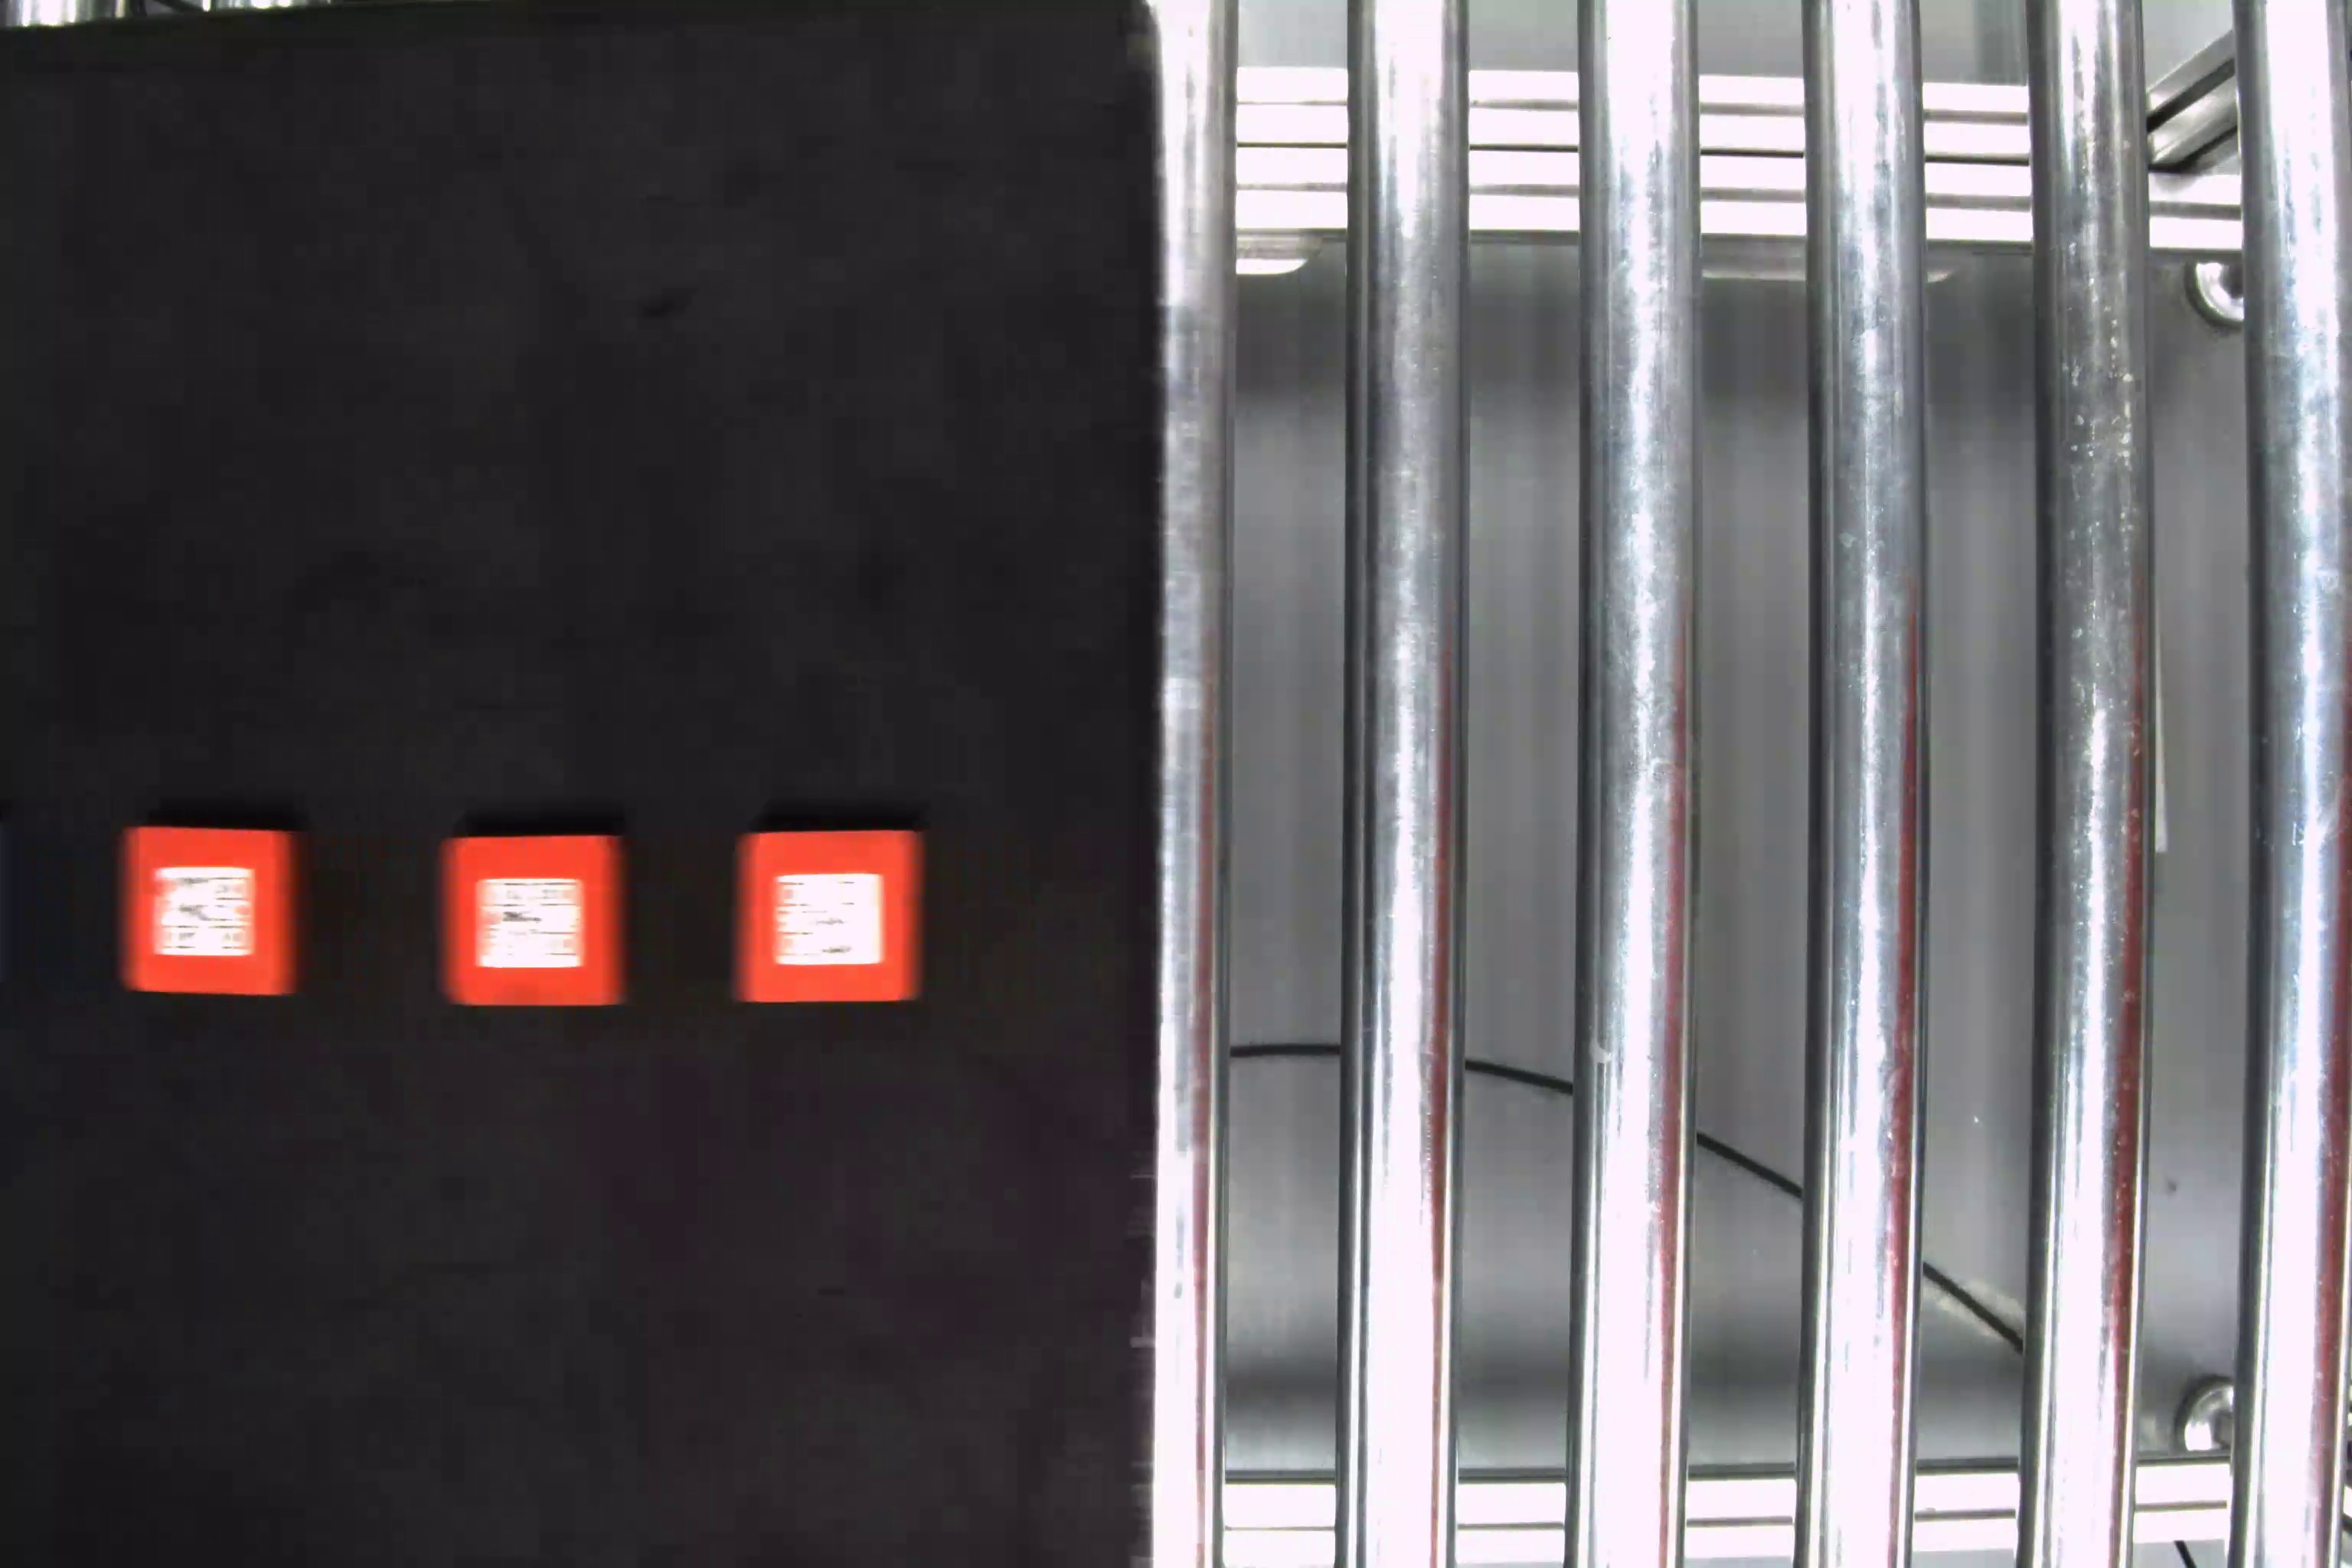wood: (434, 833, 637, 1013), (115, 824, 311, 1003), (730, 828, 926, 1004)
